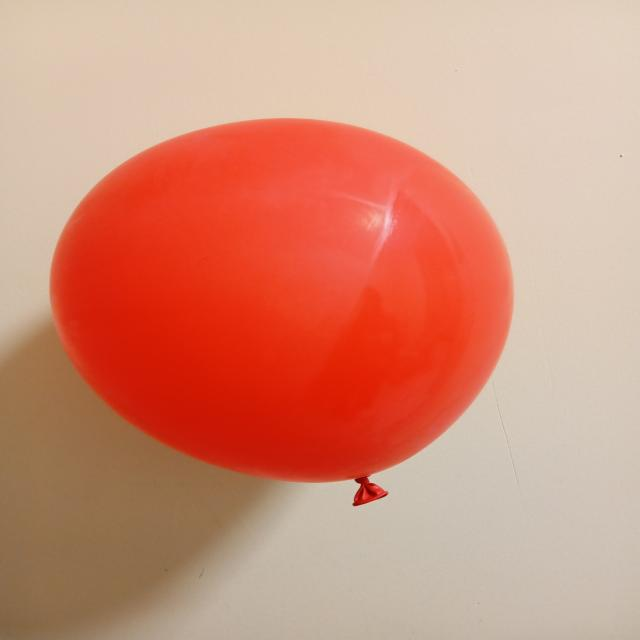balloon: (50, 119, 513, 482)
